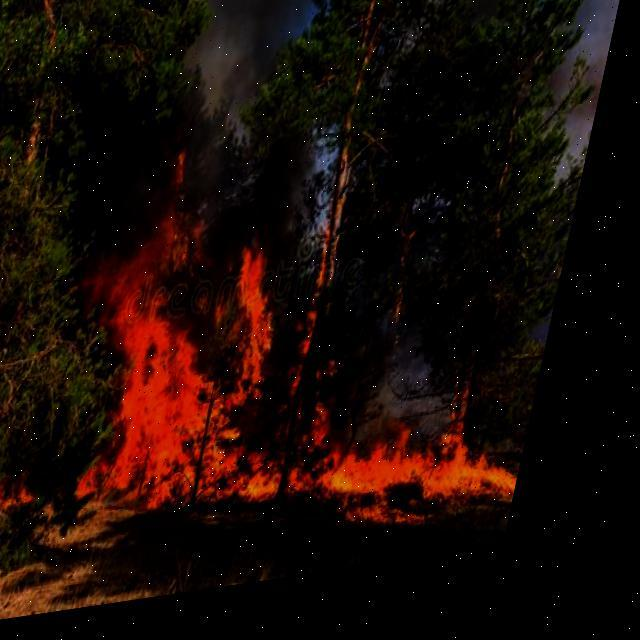Fire: (32, 106, 602, 584)
